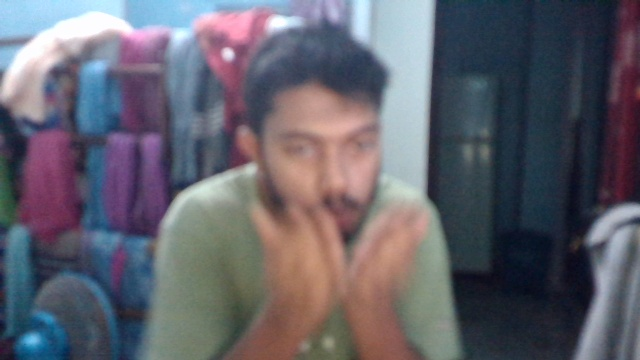iloveu: (230, 27, 432, 308)
